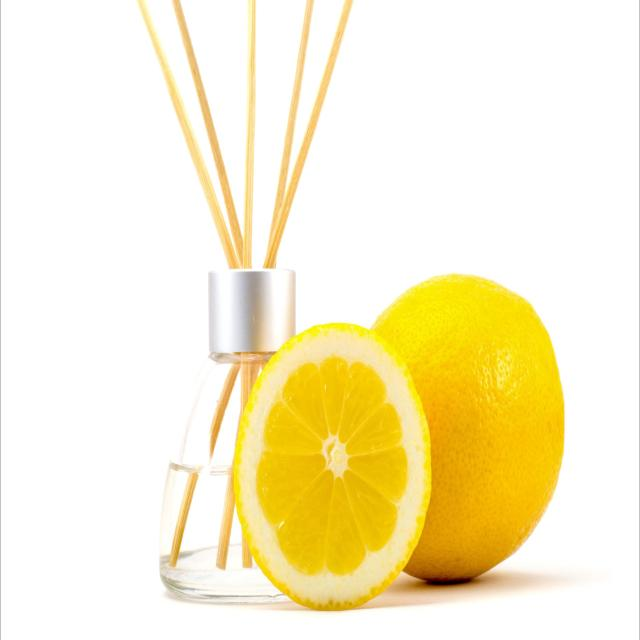lemon: (227, 314, 438, 619)
